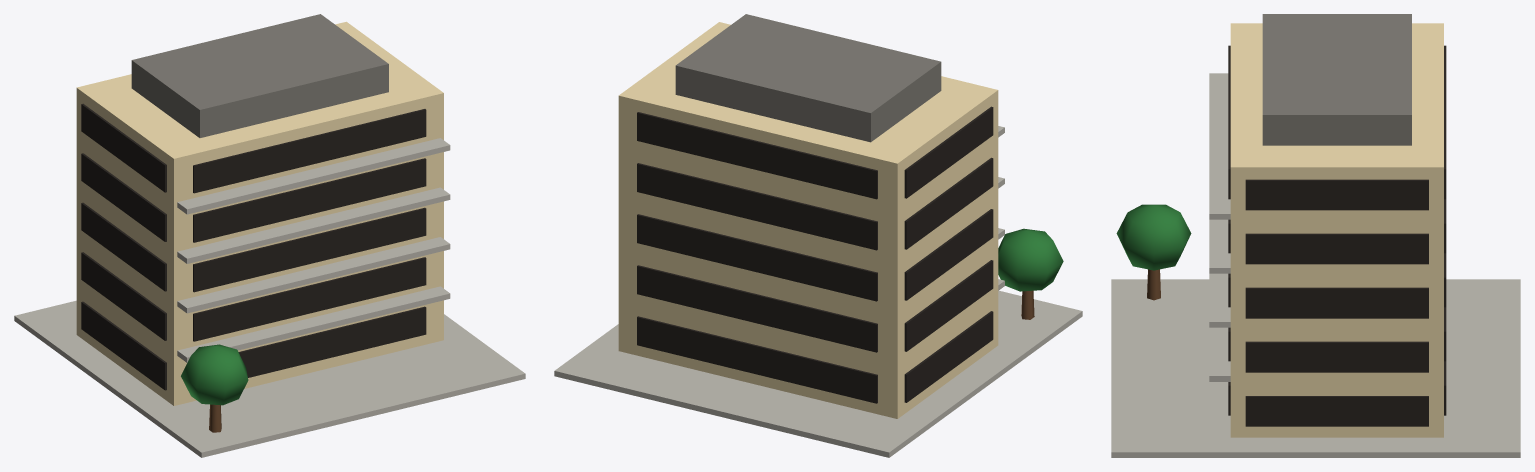
File: zone_R_d3_e3.glb
3 views of the same model, side by side, from view 1: azimuth 30°, elevation 25°; view 2: azimuth 150°, elevation 25°; view 3: azimuth 270°, elevation 25° (orthographic). The views are drawn at different scales.
Visible parts, largest first — view 1: zone_R_d3_e3; view 2: zone_R_d3_e3; view 3: zone_R_d3_e3.
Part boxes in pixels (box(x1,y1,x2,y2)): zone_R_d3_e3: box(14, 14, 525, 457); zone_R_d3_e3: box(554, 14, 1082, 457); zone_R_d3_e3: box(1111, 14, 1520, 457).
Size of the model in its own units: 0.96 by 0.795 by 0.96.
